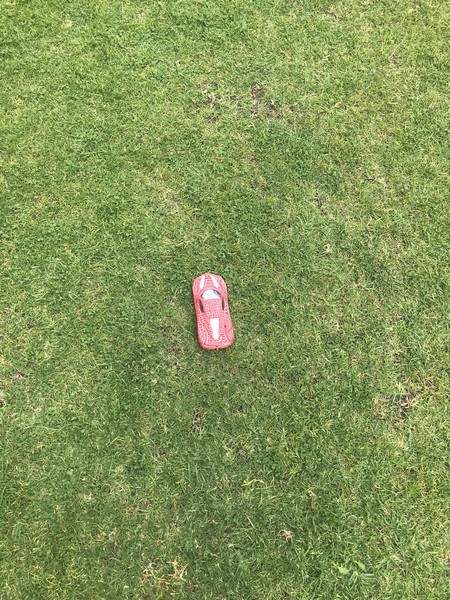RC: (191, 271, 237, 352)
